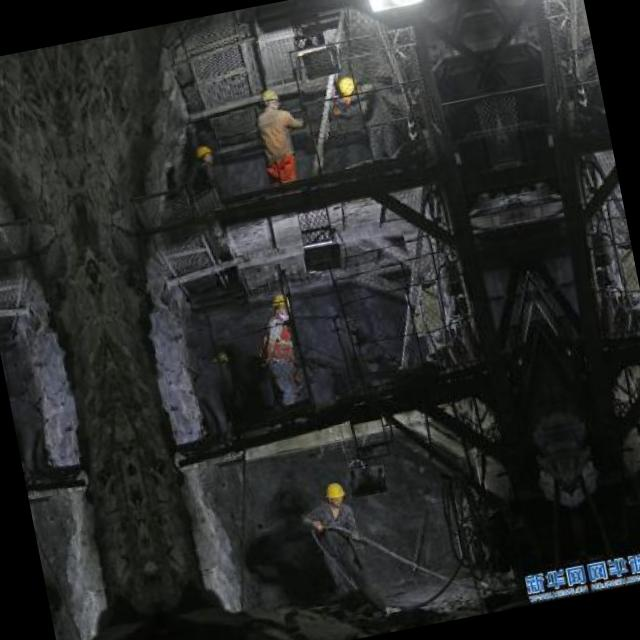helmet: (334, 70, 370, 106), (318, 476, 352, 513), (265, 286, 297, 324), (256, 86, 284, 115), (190, 140, 216, 168)
